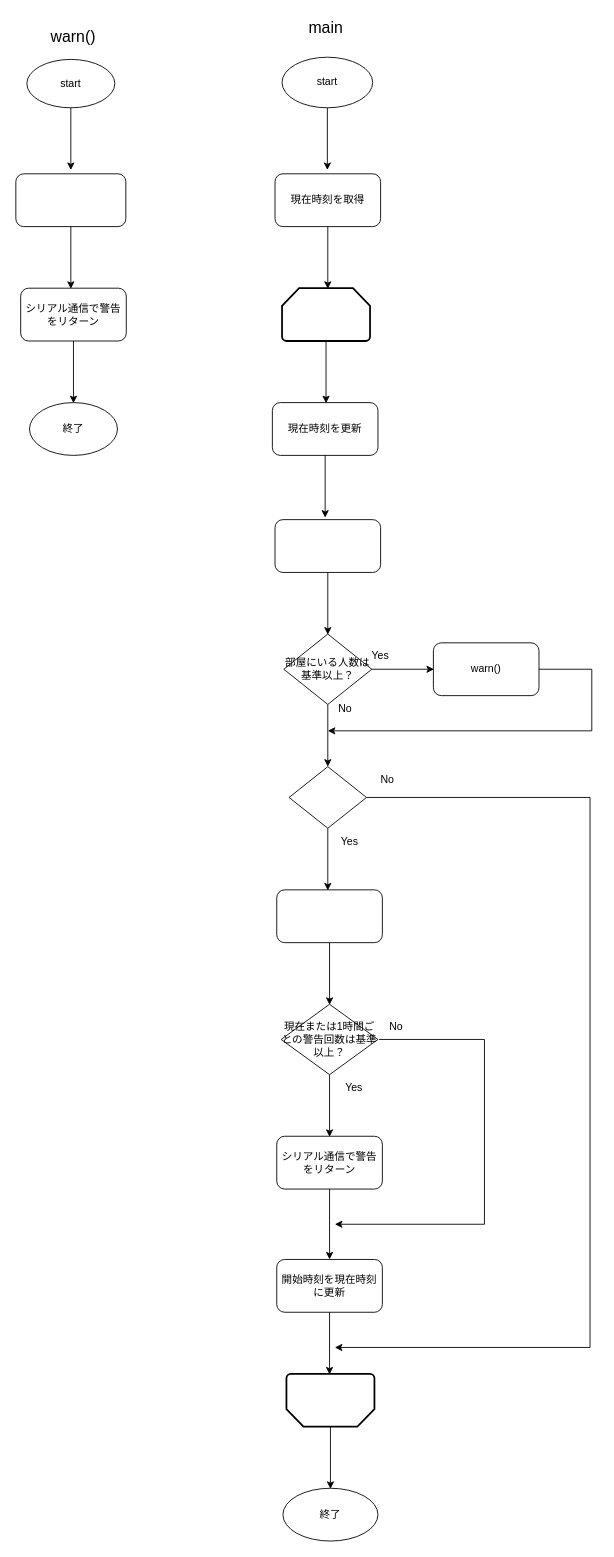
Image size: 614x1557. Some labels were removed from this diagram. Here are the shapes that lost their labels. From the top down, the centre of each, then its label:
(70,200): 時刻に対する警告カウント++
(325,314): 終了時刻よりも早い間
(327,545): database1から現在の人数を取得
(327,797): 開始時刻から1時間経過？
(329,916): データベース2から現在の警告回数と1時間ごとの警告回数を取得
(330,1400): ループ終了
